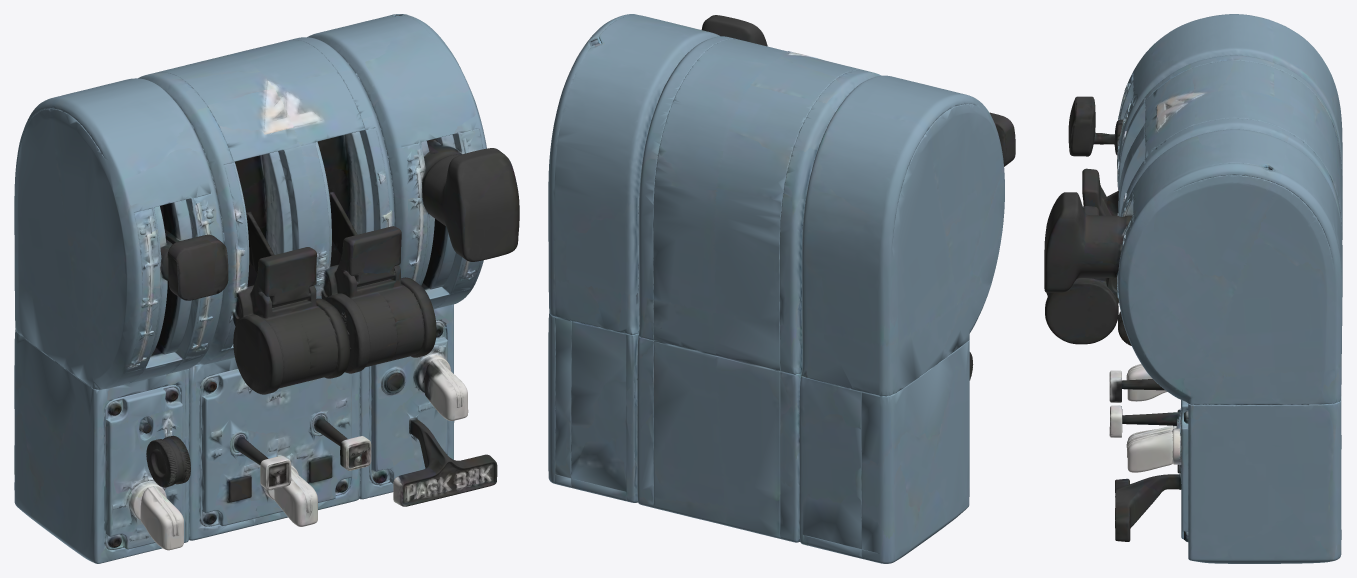
Rendered from throttle.glb.
3 views of the same model, side by side, from view 1: azimuth 30°, elevation 25°; view 2: azimuth 150°, elevation 25°; view 3: azimuth 270°, elevation 25° (orthographic). The views are drawn at different scales.
Visible parts, largest first — view 1: tripo_node_bdf40a3d-1793-42fd-b240-20e65de5dc2e; view 2: tripo_node_bdf40a3d-1793-42fd-b240-20e65de5dc2e; view 3: tripo_node_bdf40a3d-1793-42fd-b240-20e65de5dc2e.
Part boxes in pixels (bbox=[...]): tripo_node_bdf40a3d-1793-42fd-b240-20e65de5dc2e: bbox=[14, 14, 519, 563]; tripo_node_bdf40a3d-1793-42fd-b240-20e65de5dc2e: bbox=[548, 14, 1015, 563]; tripo_node_bdf40a3d-1793-42fd-b240-20e65de5dc2e: bbox=[1044, 14, 1342, 563].
Size of the model in its own units: 0.8419 by 0.9796 by 0.6653.
Materials: 1 (1 with a texture image).
